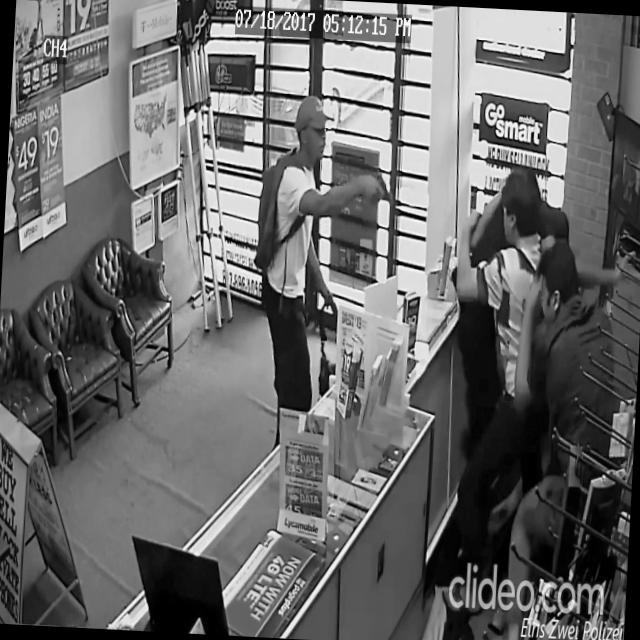gun: (374, 168, 396, 207)
person: (438, 159, 640, 640), (440, 161, 580, 597), (498, 237, 626, 640)
person with a gun: (244, 92, 402, 476)
